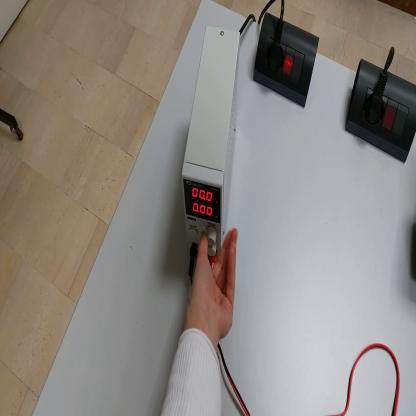hand: (189, 228, 238, 342)
power supply: (182, 25, 241, 259)
socket: (348, 58, 416, 164), (253, 15, 320, 111)
